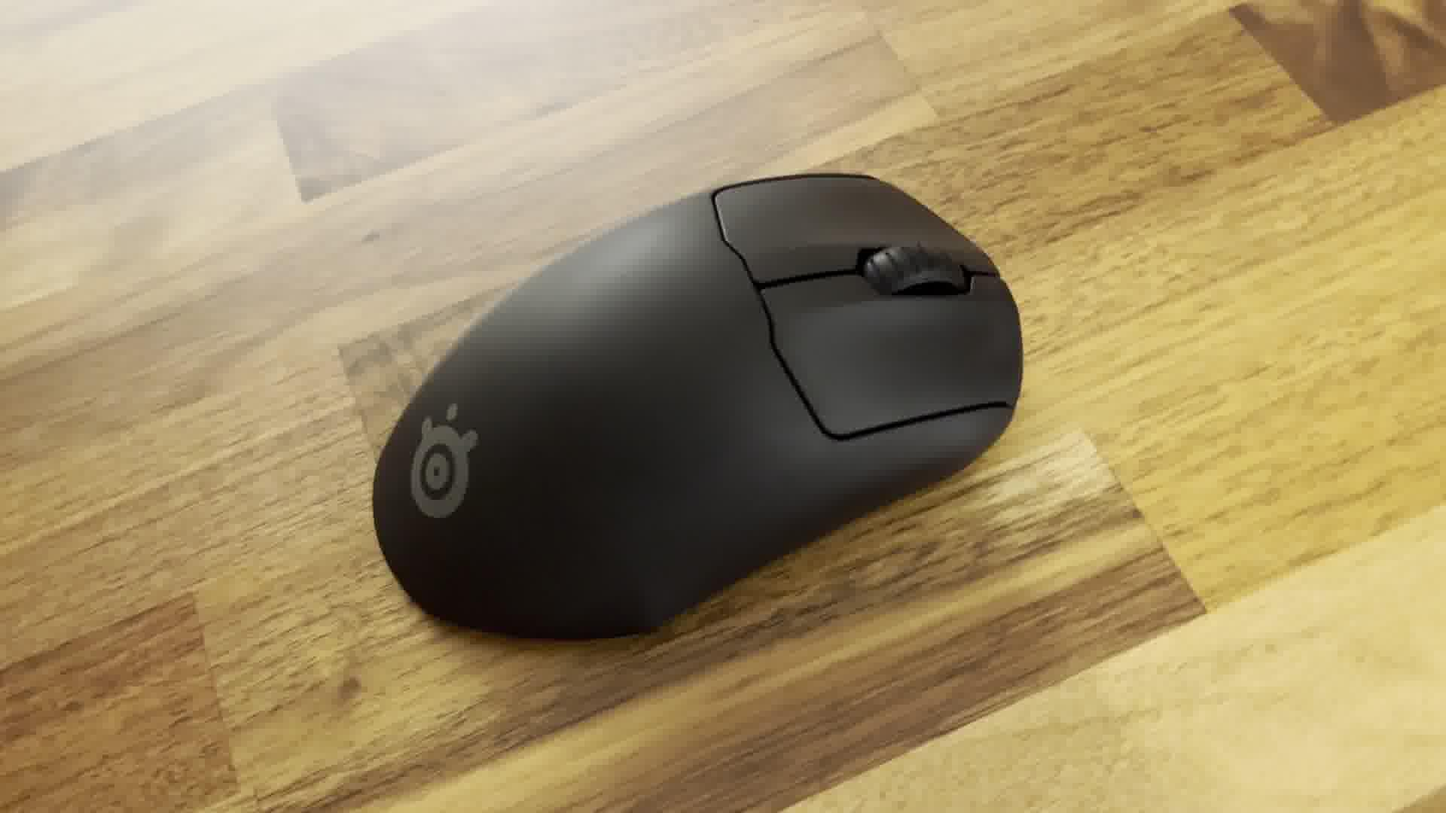mouse: (370, 167, 1027, 643)
